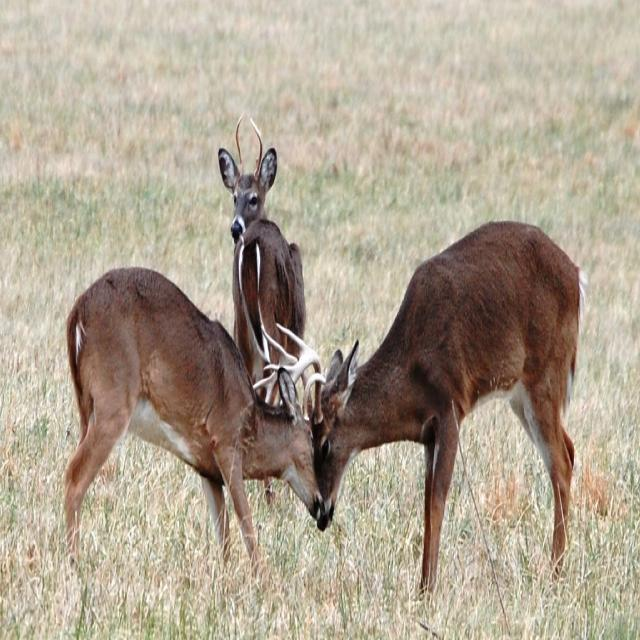Deer: (263, 216, 587, 602), (64, 263, 324, 582), (218, 111, 307, 512)
